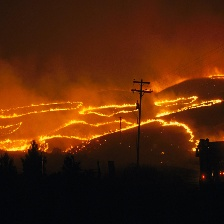fire: (2, 100, 224, 154), (204, 70, 224, 82)
smoke: (1, 38, 219, 87)
